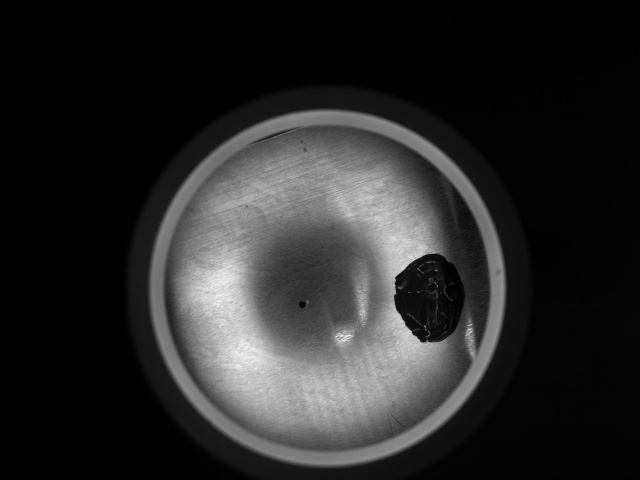zang_wu: (391, 252, 465, 345)
zhen_kong: (296, 297, 312, 311)
